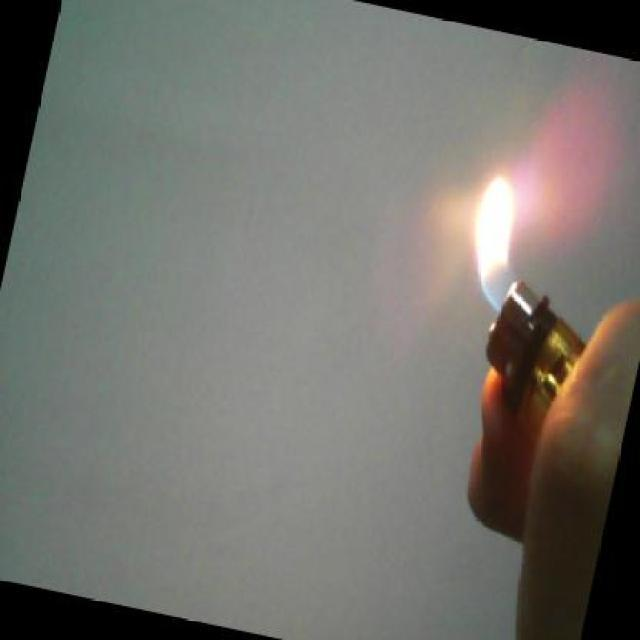Fire: (464, 139, 533, 317)
